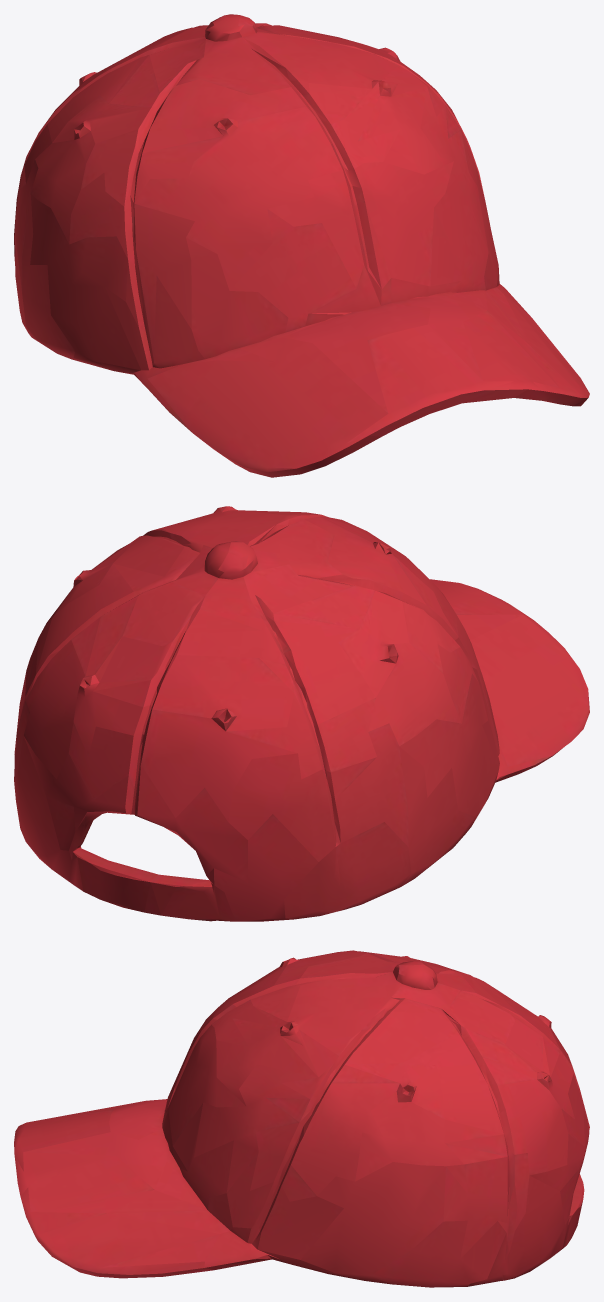
Rendered from hat_cap.fbx.
The picture shows the model from 3 angles, top to bottom: view 1: azimuth 30°, elevation 25°; view 2: azimuth 150°, elevation 25°; view 3: azimuth 270°, elevation 25°; orthographic projection. The views are drawn at different scales.
Parts seen in each view (by area): view 1: Mesh_0; view 2: Mesh_0; view 3: Mesh_0.
Part boxes in pixels (box(x1,y1,x2,y2)): Mesh_0: box(14, 14, 589, 477); Mesh_0: box(14, 506, 589, 921); Mesh_0: box(14, 950, 589, 1287).
Size of the model in its own units: 1.34 by 0.9354 by 1.9.
Materials: 1 (1 with a texture image).
